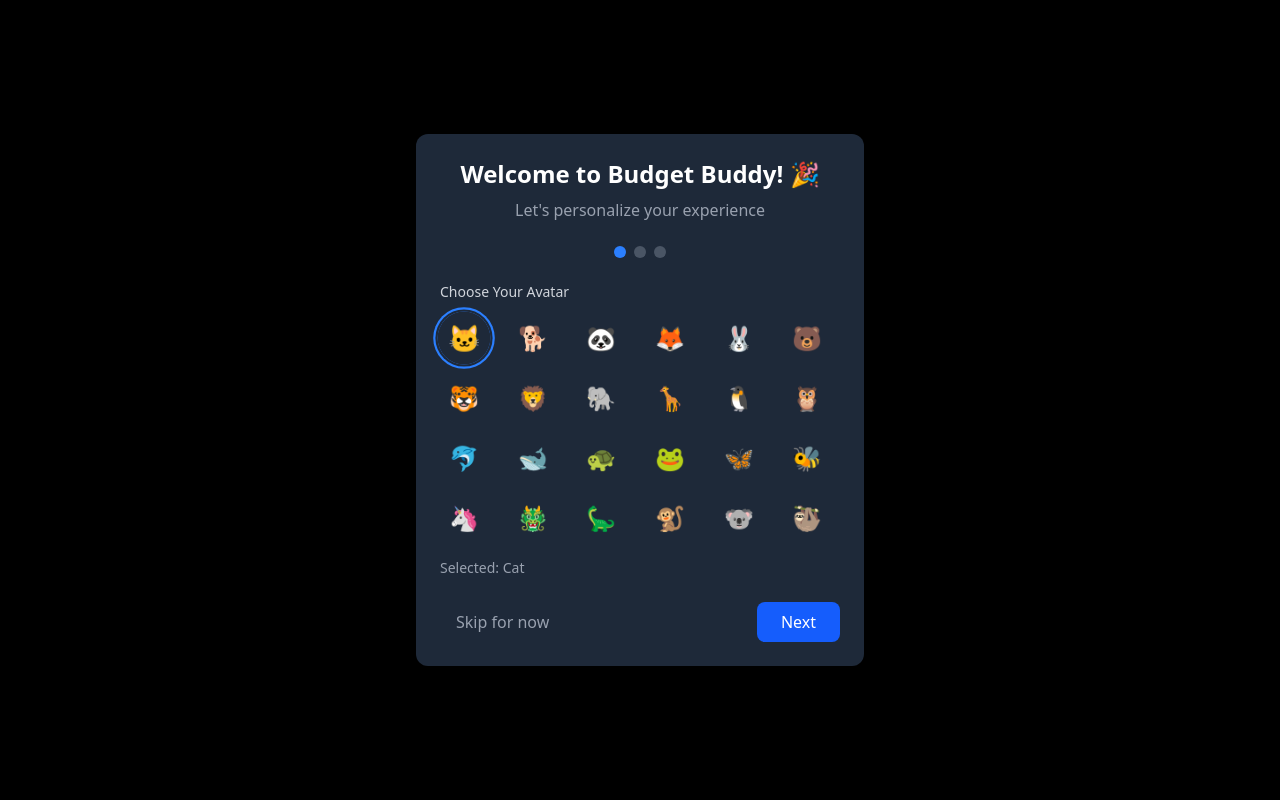
Test: WelcomeModal › navigates to step 2 when Next is clicked
This screenshot has width=1280, height=800.
Click the button "Next" at (798, 622), box [757,602,840,642]
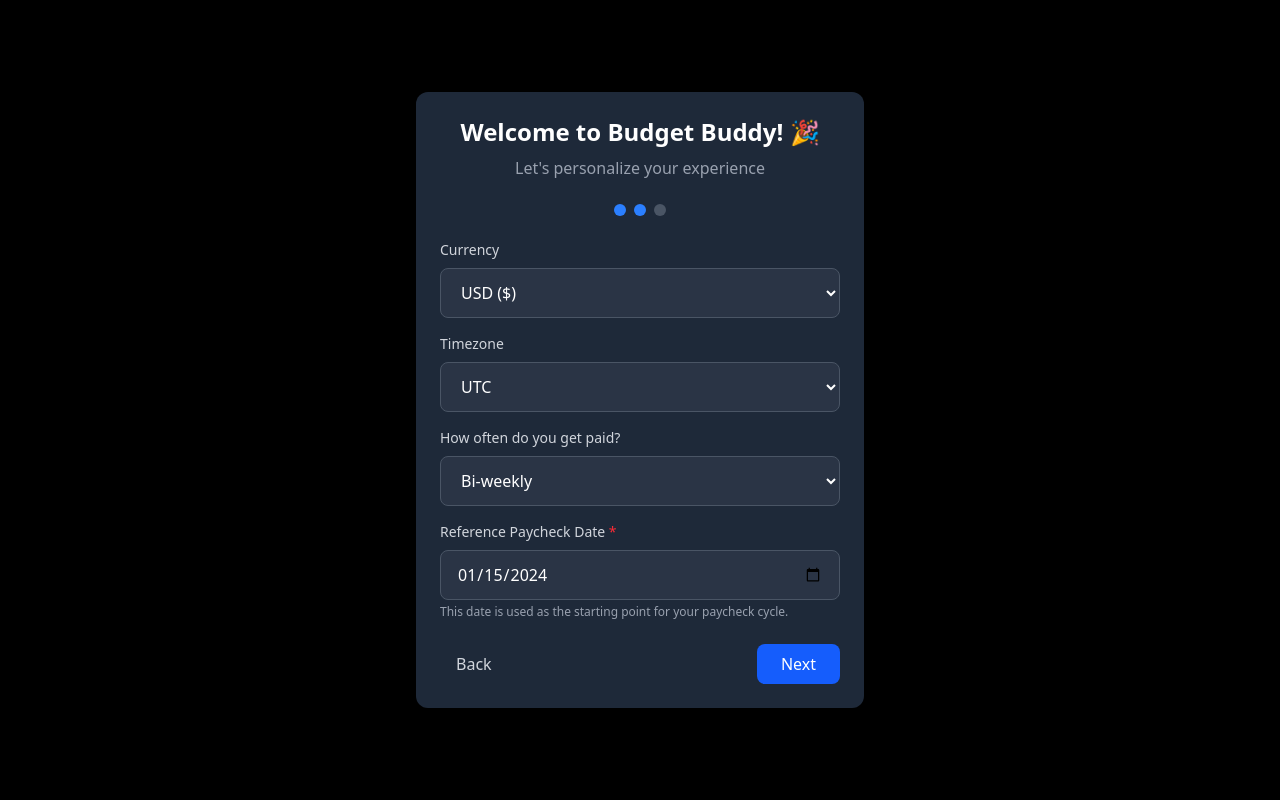
Expected: the dropdown labelled "Currency" is shown, [440,268,840,318]
Expected: the dropdown labelled "Timezone" is shown, [440,362,840,412]
Expected: the dropdown labelled "How often do you get paid?" is shown, [440,456,840,506]
